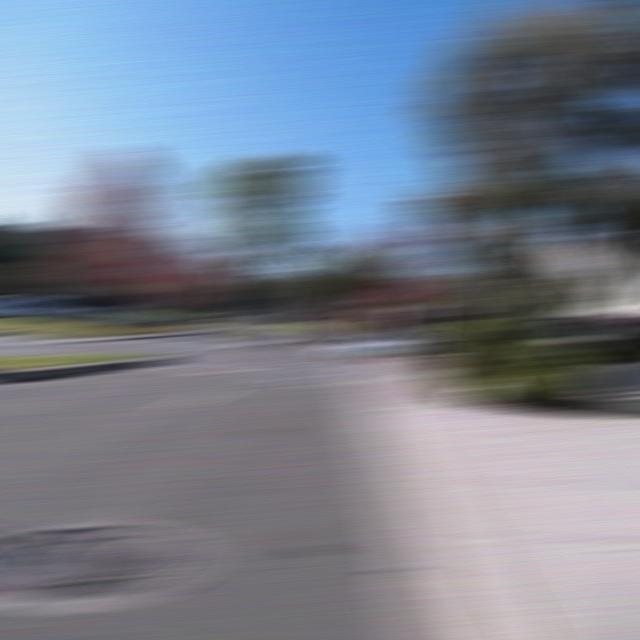stop: (376, 275, 424, 305), (112, 254, 158, 285)
